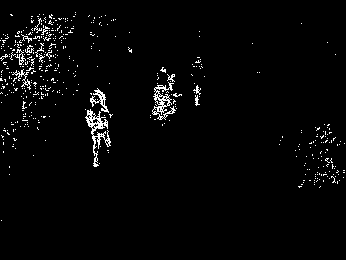person: (84, 86, 116, 169)
